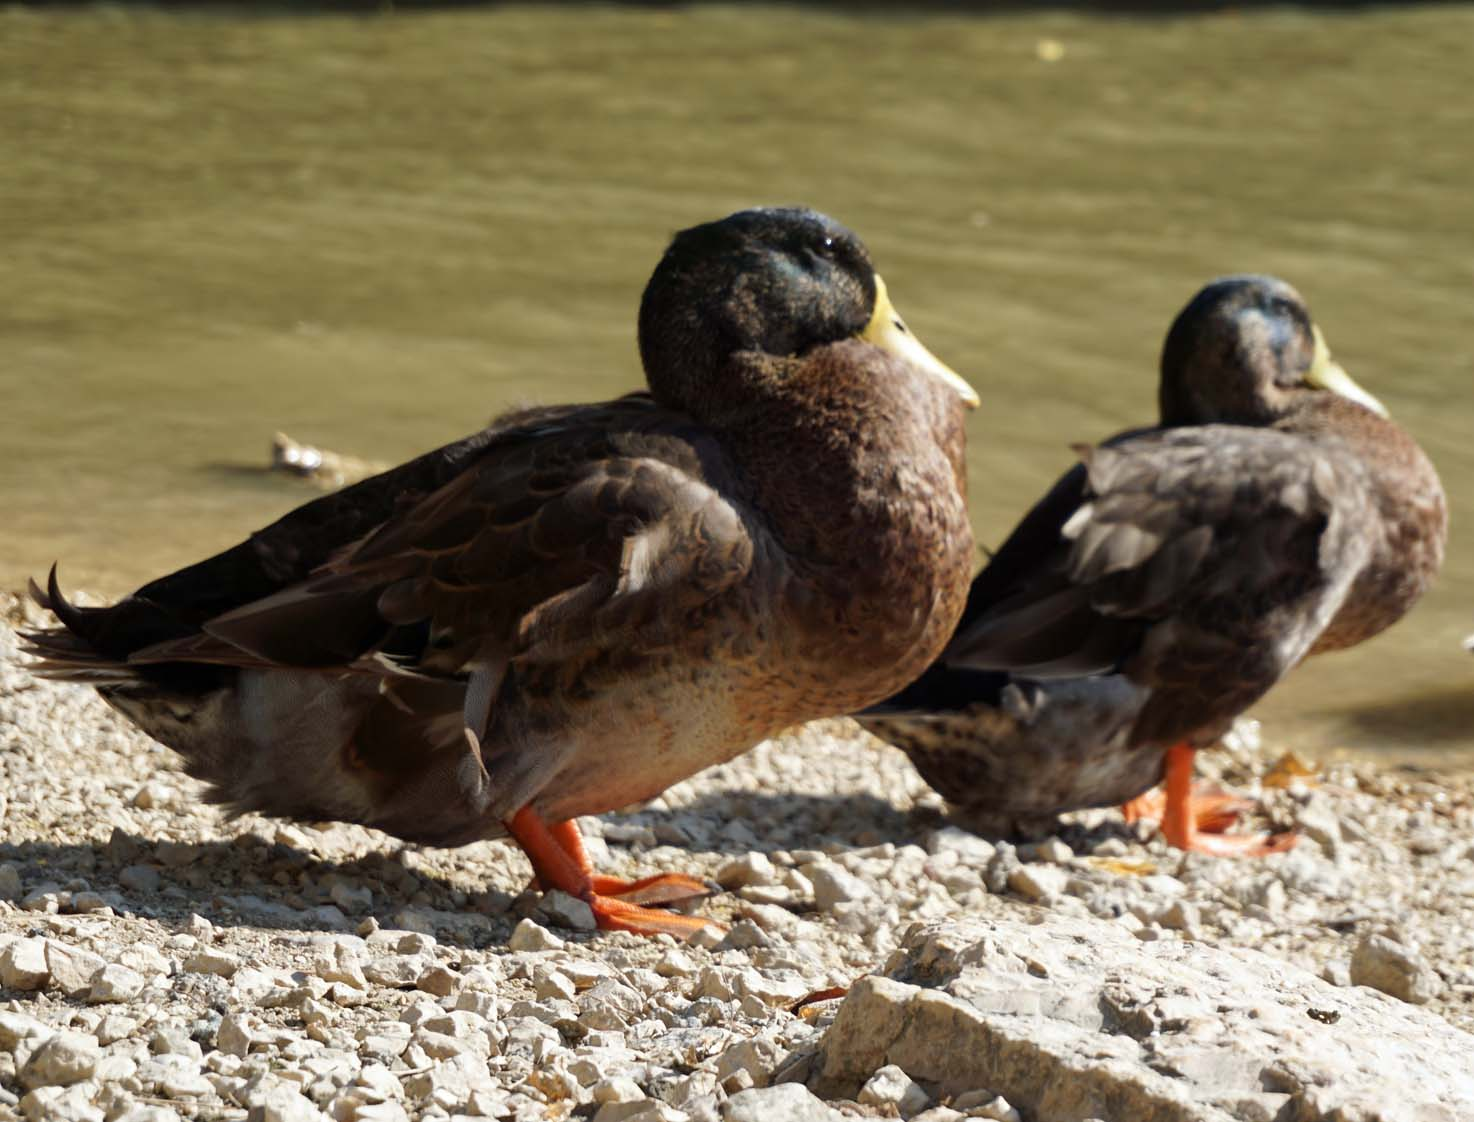bird: (29, 171, 1005, 952), (903, 230, 1463, 907)
